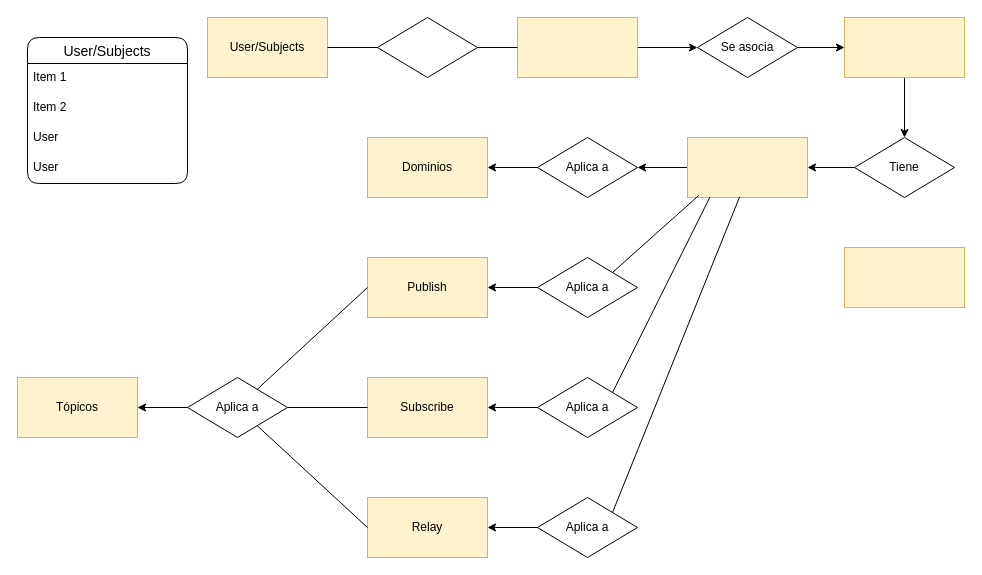
This 982x575 diagram has some shape labels left out. Each missing label, with the centre of its shape:
Allow_rule: the point at 747,167
Deny_rule: the point at 904,277
Grant Template: the point at 904,47
Posee: the point at 427,47
Roles: the point at 577,47
